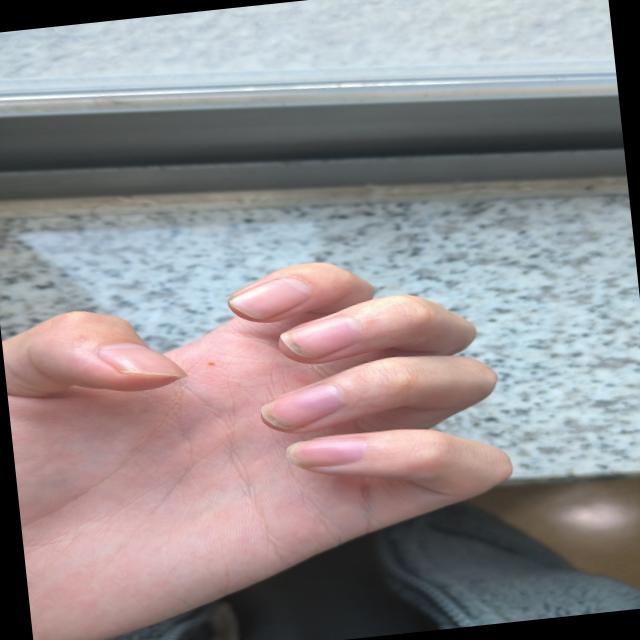Nail: (260, 383, 342, 429), (228, 277, 311, 320), (279, 316, 358, 359), (96, 343, 186, 377), (284, 436, 368, 467)
